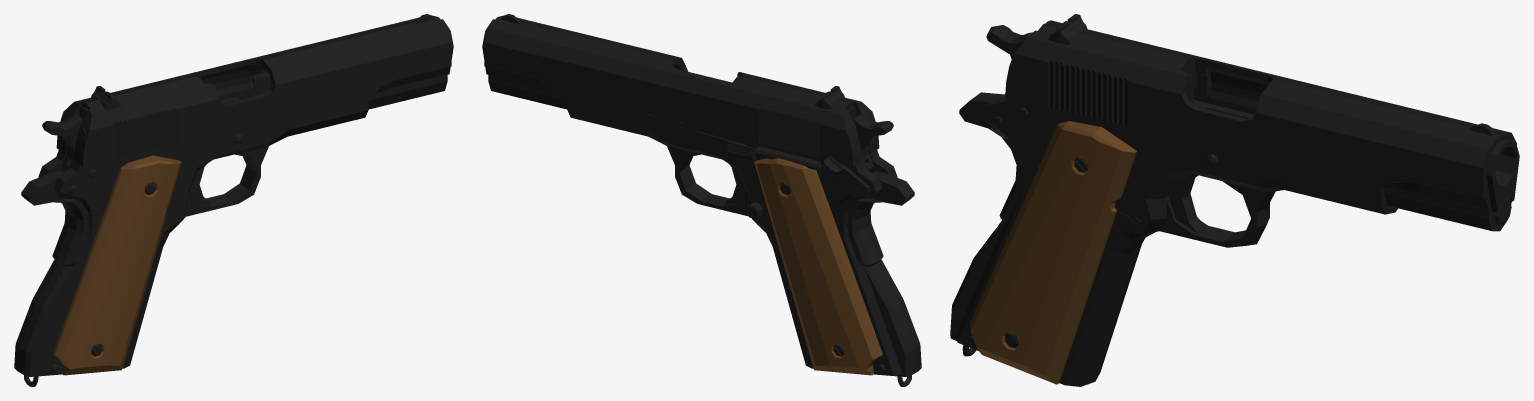
Rendered from colt_m1911_a1.glb.
3 views of the same model, side by side, from view 1: azimuth 30°, elevation 25°; view 2: azimuth 150°, elevation 25°; view 3: azimuth 330°, elevation 25° (orthographic). The views are drawn at different scales.
Visible parts, largest first — view 1: colt1911 frame_4 (×2), colt1911 slide_5, colt1911 grip safety_8, colt1911 hammer_7; view 2: colt1911 frame_4 (×2), colt1911 slide_5, colt1911 grip safety_8, colt1911 safety_11, colt1911 bolt release_10, colt1911 hammer_7; view 3: colt1911 frame_4 (×2), colt1911 slide_5, colt1911 grip safety_8, colt1911 trigga_9, colt1911 hammer_7.
Boxes of the visible parts, left/top/right/bottom form: colt1911 frame_4 (×2): left=14, top=97, right=368, bottom=386; colt1911 slide_5: left=56, top=14, right=453, bottom=166; colt1911 grip safety_8: left=21, top=171, right=88, bottom=266; colt1911 hammer_7: left=42, top=112, right=96, bottom=177; colt1911 frame_4 (×2): left=567, top=97, right=921, bottom=386; colt1911 slide_5: left=482, top=14, right=879, bottom=166; colt1911 grip safety_8: left=847, top=171, right=914, bottom=266; colt1911 safety_11: left=821, top=155, right=870, bottom=203; colt1911 bolt release_10: left=688, top=131, right=755, bottom=160; colt1911 hammer_7: left=852, top=112, right=893, bottom=171; colt1911 frame_4 (×2): left=950, top=97, right=1398, bottom=386; colt1911 slide_5: left=1005, top=14, right=1519, bottom=231; colt1911 grip safety_8: left=959, top=92, right=1022, bottom=221; colt1911 trigga_9: left=1168, top=174, right=1204, bottom=232; colt1911 hammer_7: left=986, top=25, right=1032, bottom=117.
Size of the model in its own units: 2.2 by 1.36 by 0.3268.
